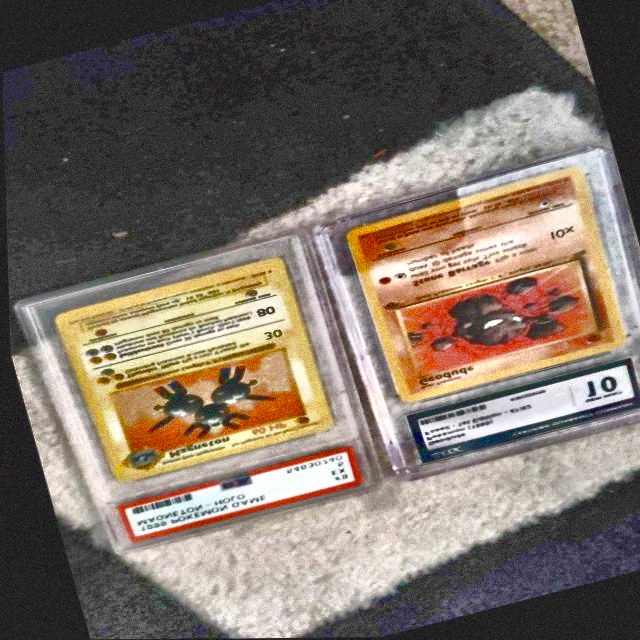card: (342, 167, 623, 402), (51, 256, 331, 482)
